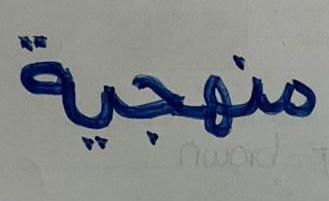heh: (185, 54, 232, 157)
jeem: (123, 50, 183, 163)
meem: (272, 48, 321, 147)
noon: (233, 42, 269, 132)
teh_marbota: (8, 23, 76, 137)
yeh: (77, 64, 119, 169)
